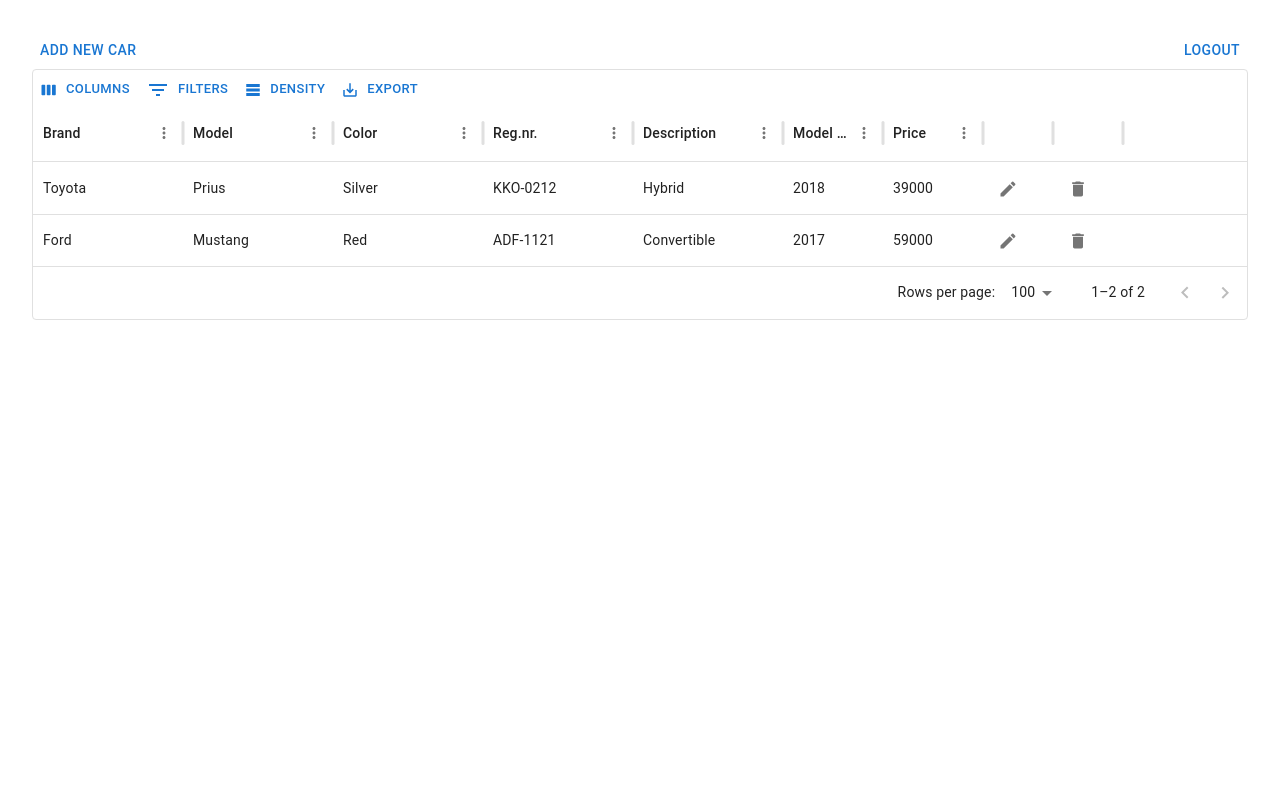
Test: Carlist tests › Open new car modal
Click the button "Add new car".
click(88, 50)  # box [32, 32, 144, 68]
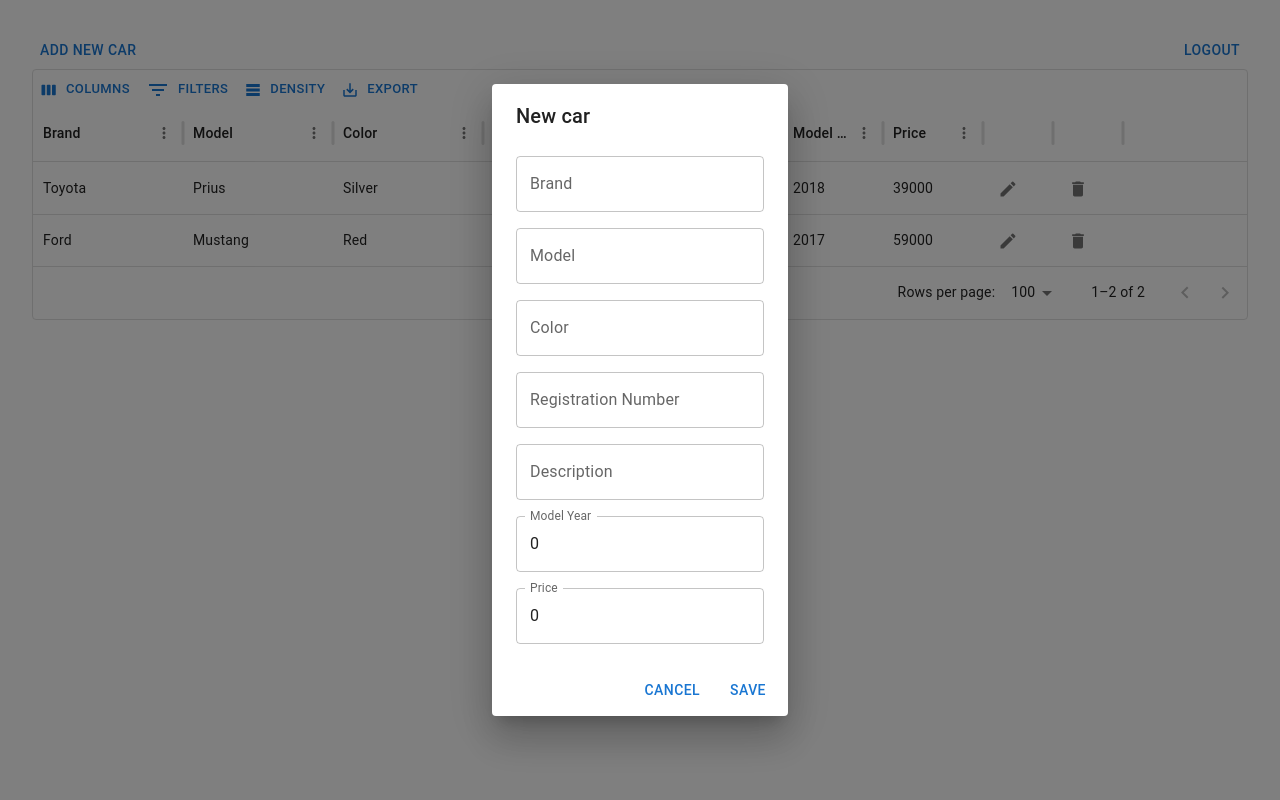
Check: the button "Save" is shown, box [716, 672, 780, 708]
